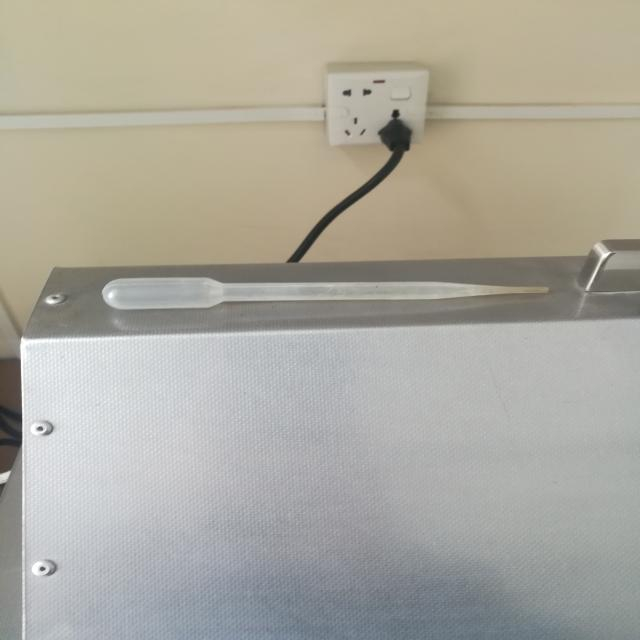Pipette: (63, 226, 574, 362)
